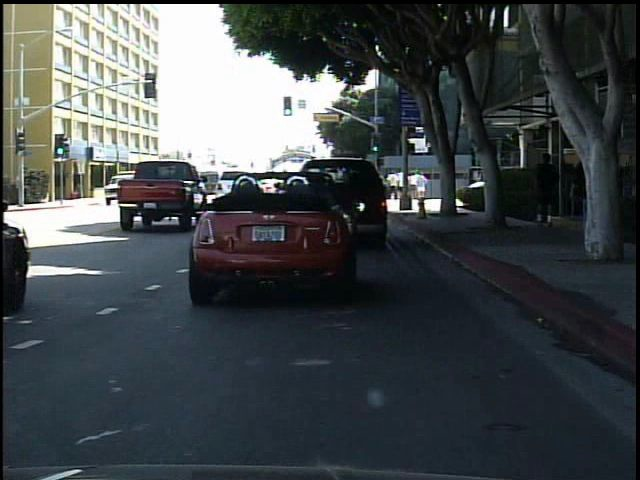person: (574, 138, 616, 257), (527, 149, 563, 230), (145, 173, 163, 201)
